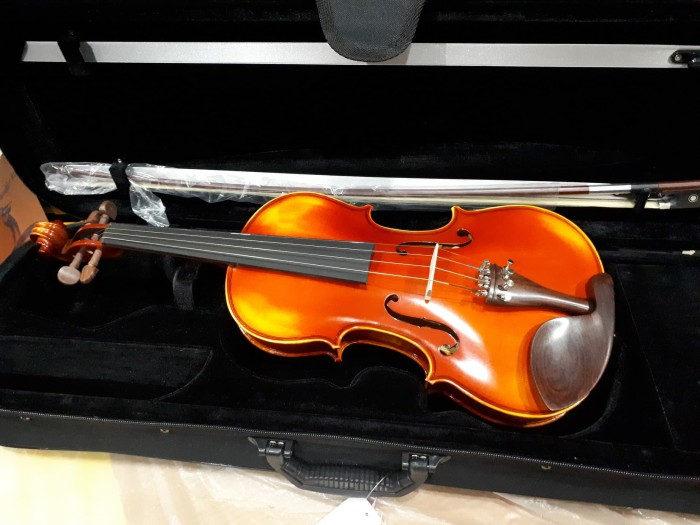Violin: (21, 179, 657, 433)
